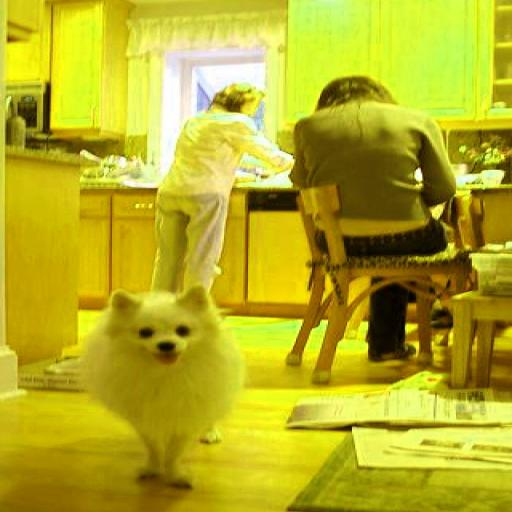dog_face: (96, 283, 226, 375)
